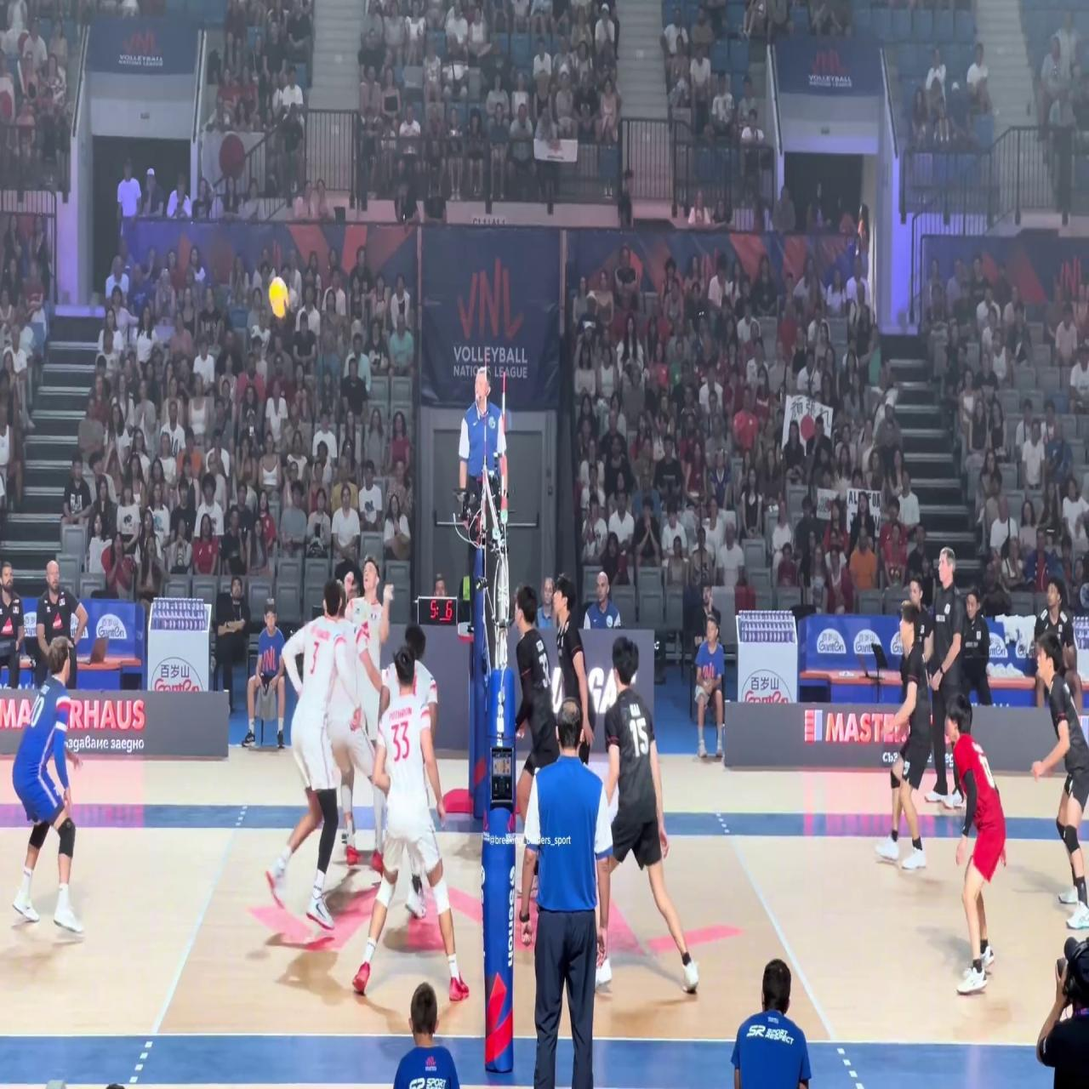ball: (269, 276, 288, 319)
